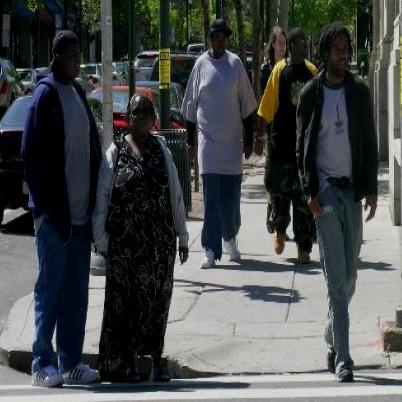ped: (299, 21, 380, 380), (23, 30, 103, 385), (94, 91, 190, 382), (182, 19, 259, 266), (258, 28, 320, 263)
